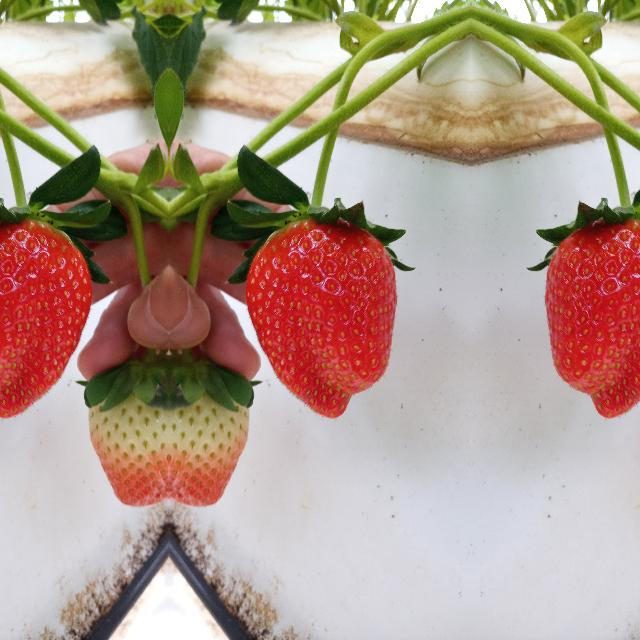Health_100: (242, 215, 398, 418), (543, 215, 640, 418), (0, 215, 94, 418)
Health_50: (170, 336, 252, 508), (84, 336, 166, 508)
